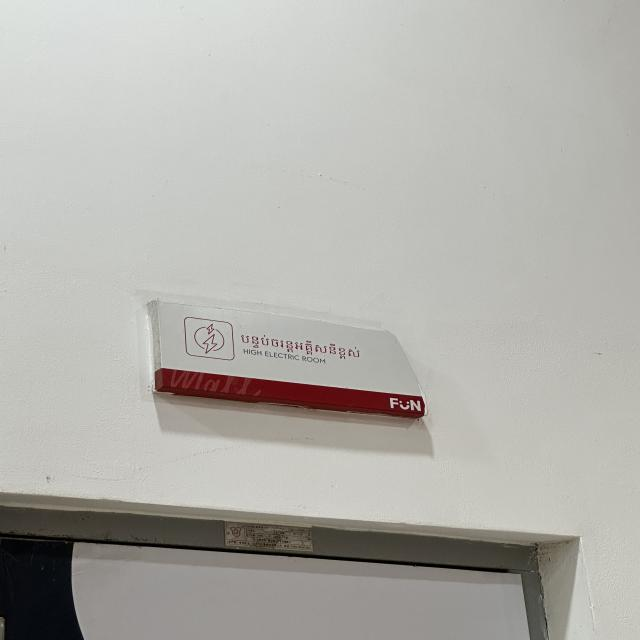Yolov11kh: (237, 330, 365, 362)
